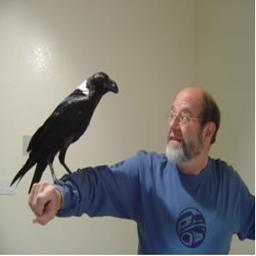Crow: (7, 67, 119, 194)
